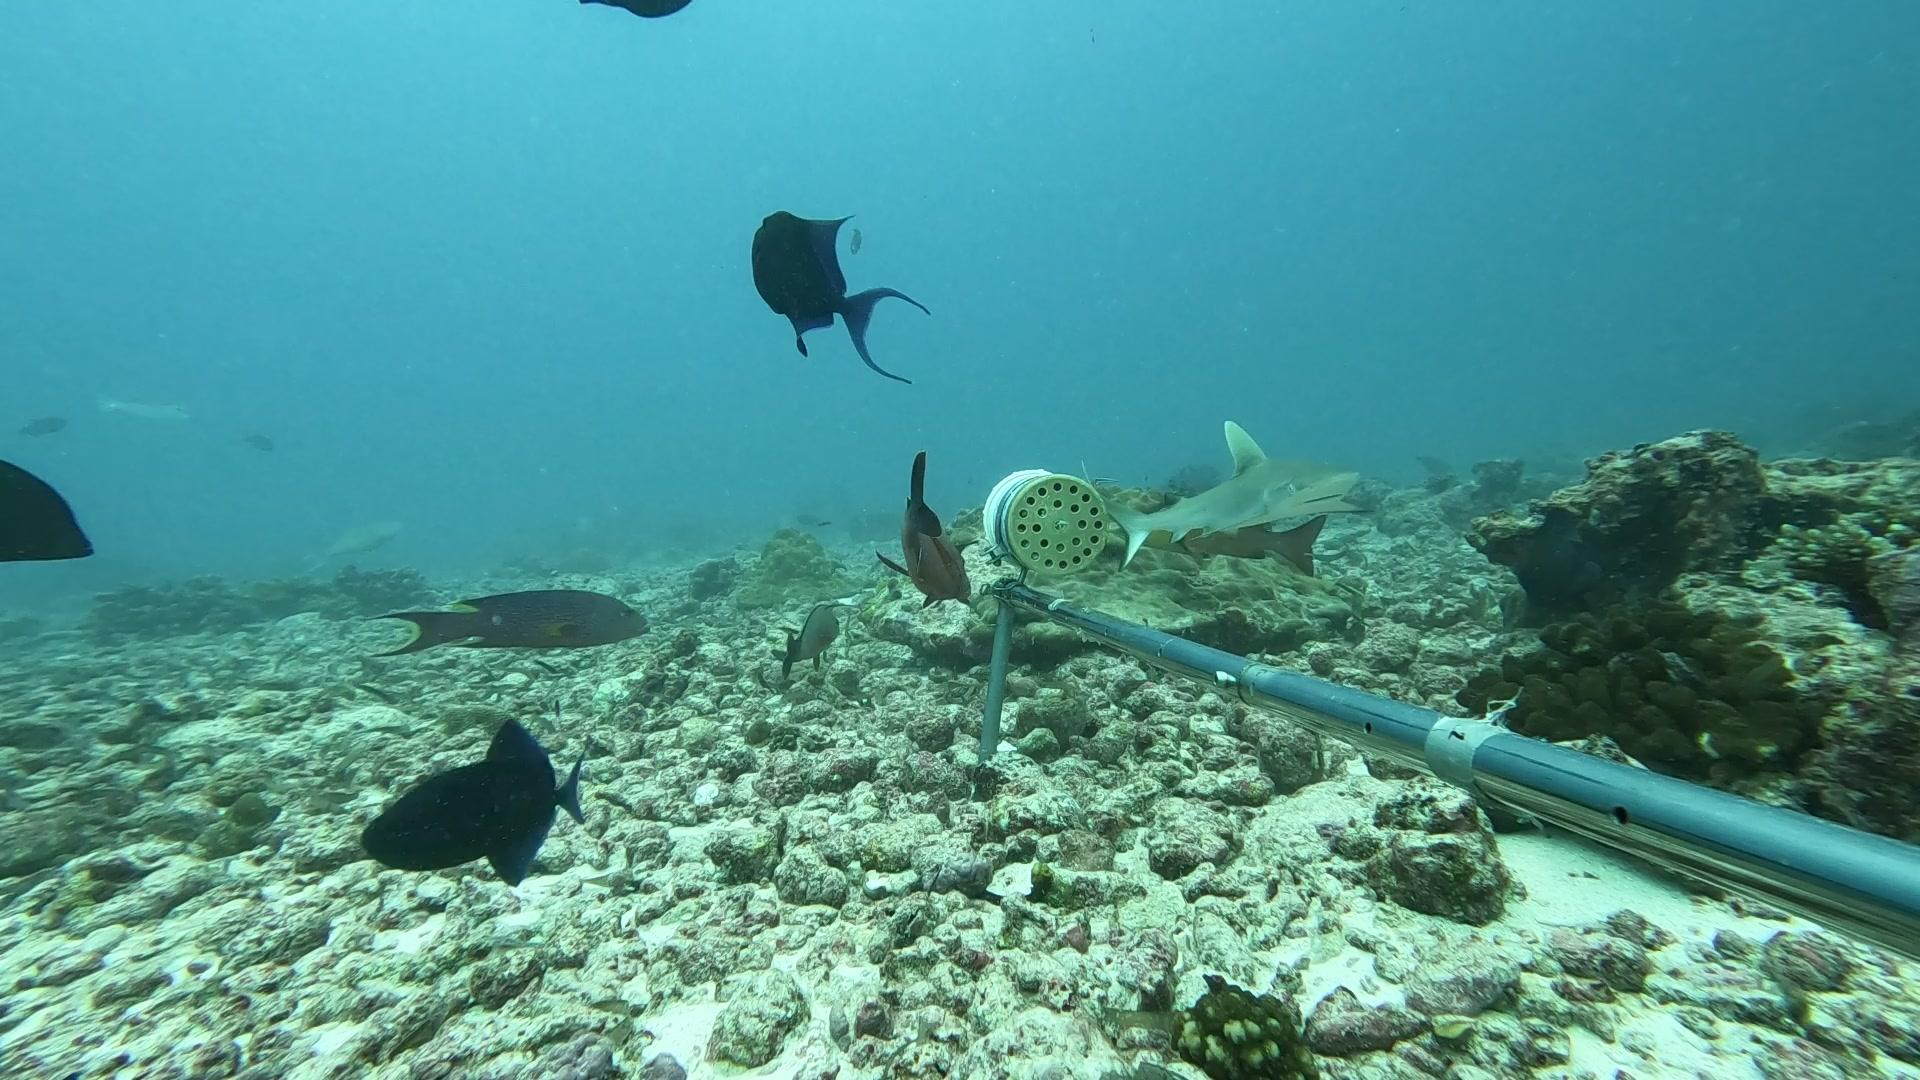fish: (359, 719, 599, 893), (1080, 443, 1378, 572), (732, 215, 931, 393), (355, 575, 659, 675), (0, 377, 99, 634), (878, 454, 985, 618), (1127, 506, 1336, 576), (773, 599, 849, 683)
